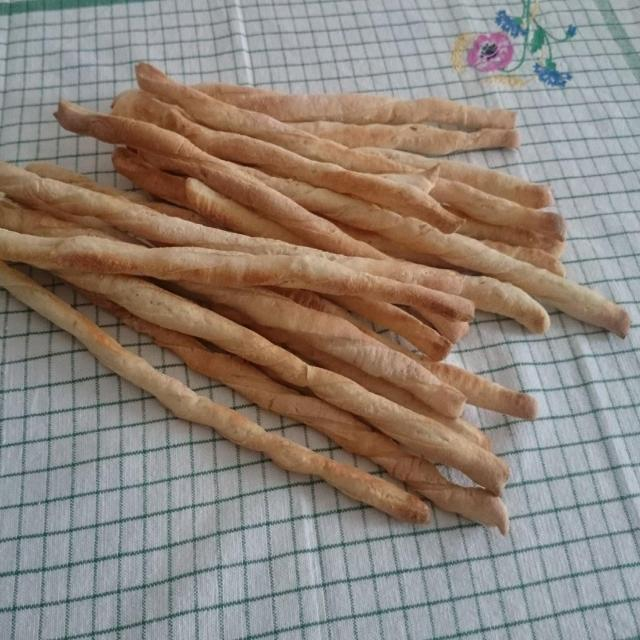Grissini: (6, 60, 630, 536)
